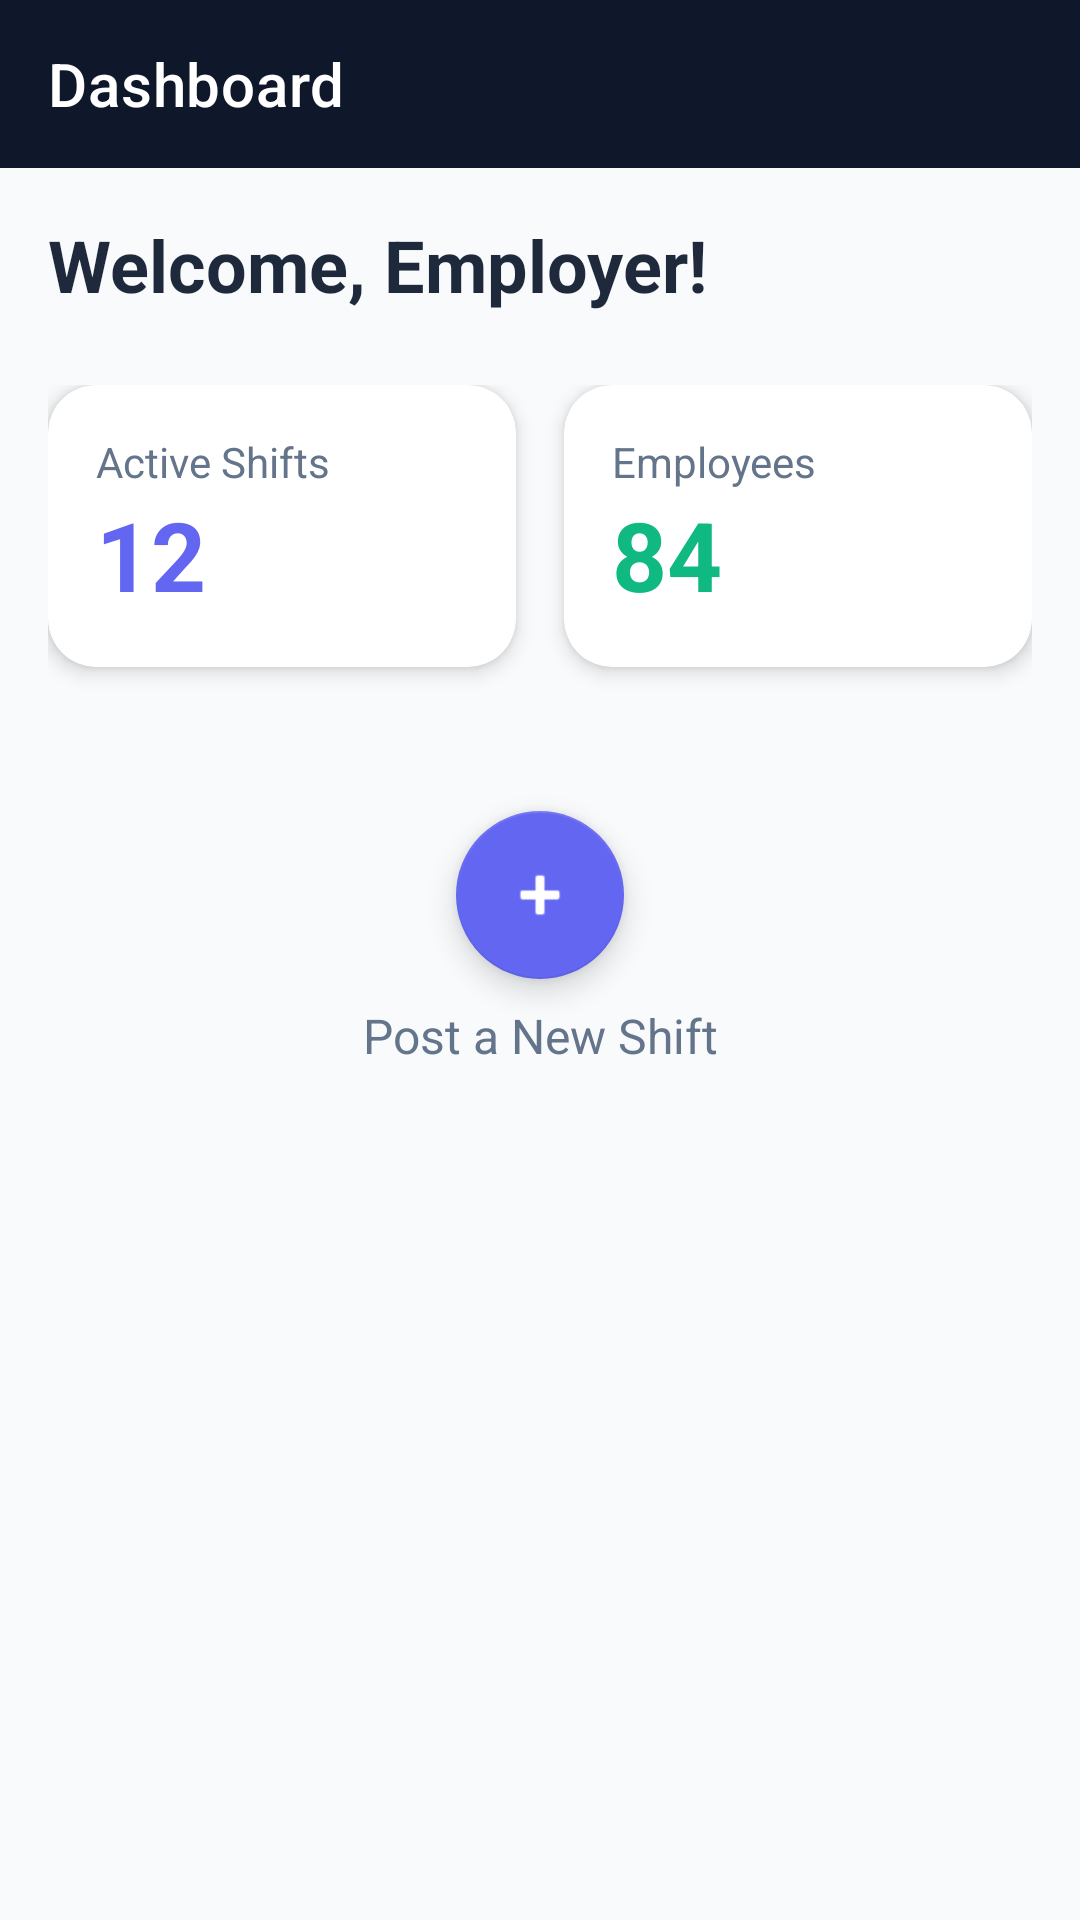

Icon click points for this 1080w x 1920h phone screenshot, format (x,y):
add: (540,895)
